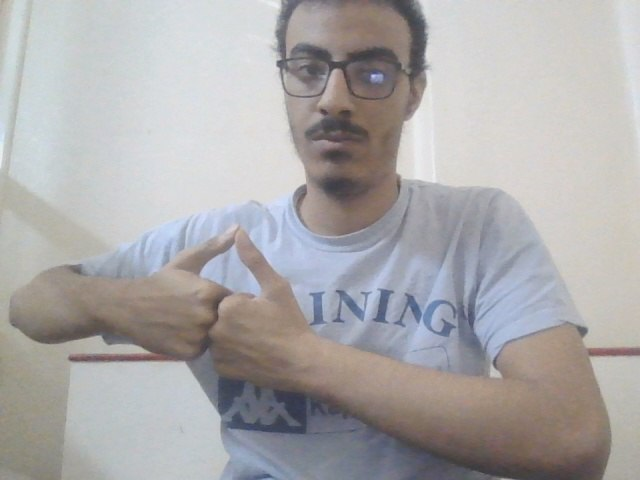Game: (130, 220, 318, 399)
